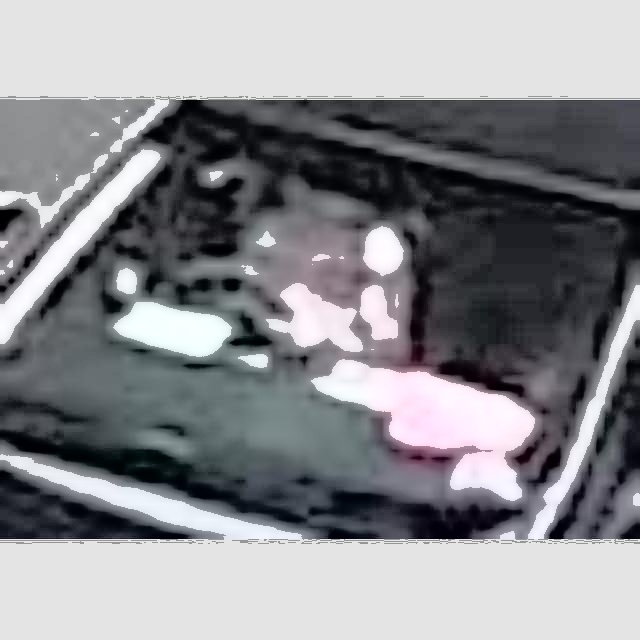tidak-pakai: (208, 169, 455, 408)
